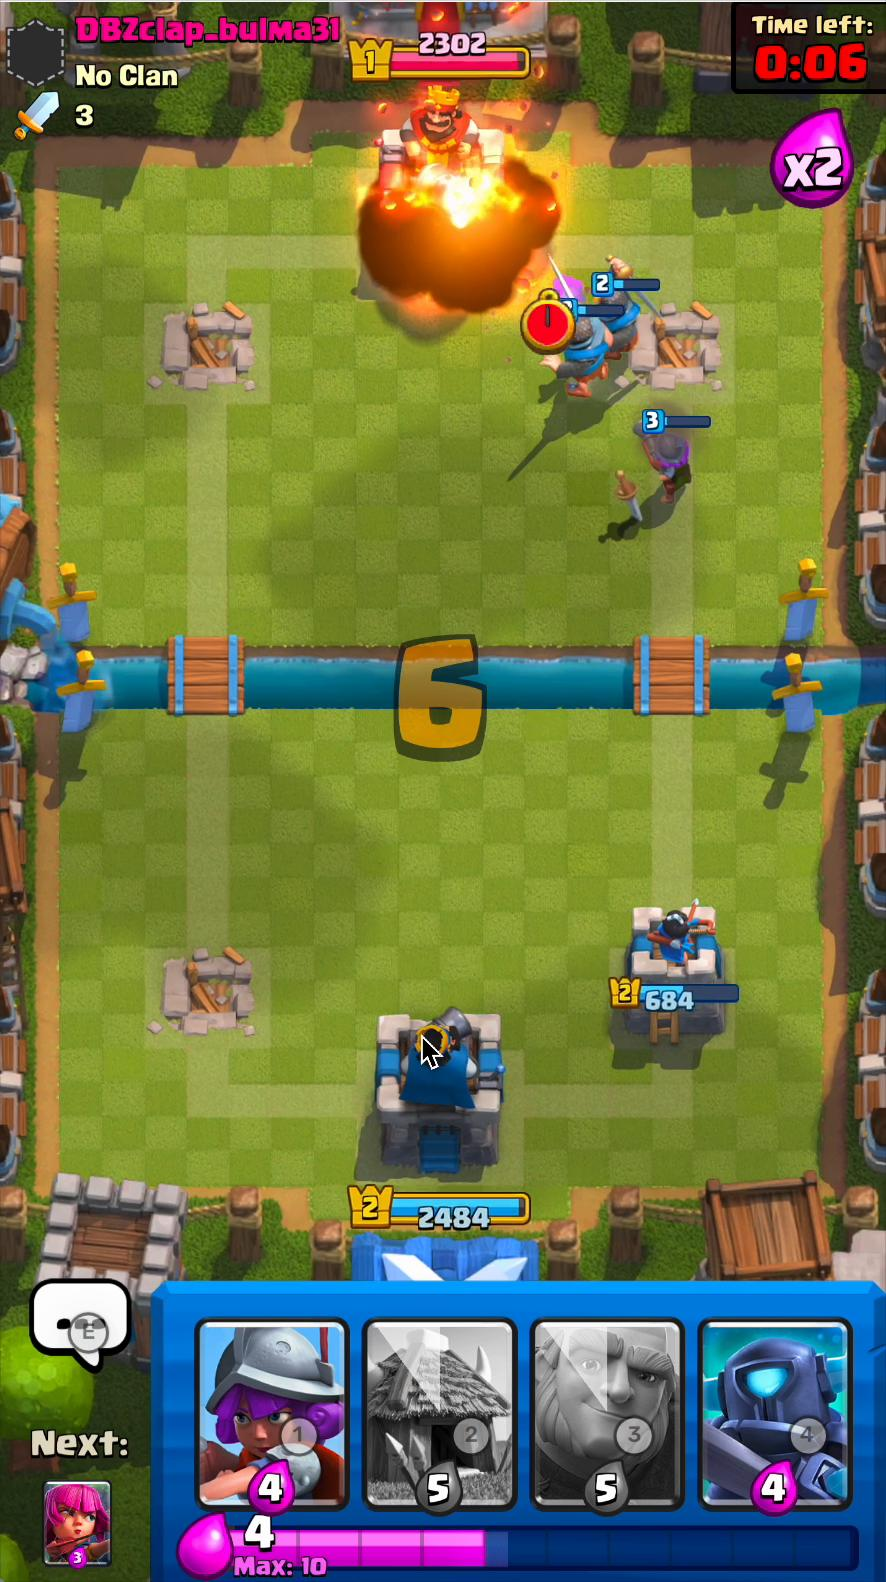chevalier: (567, 271, 658, 373), (542, 304, 620, 395)
mousquetaire: (628, 420, 703, 505)
